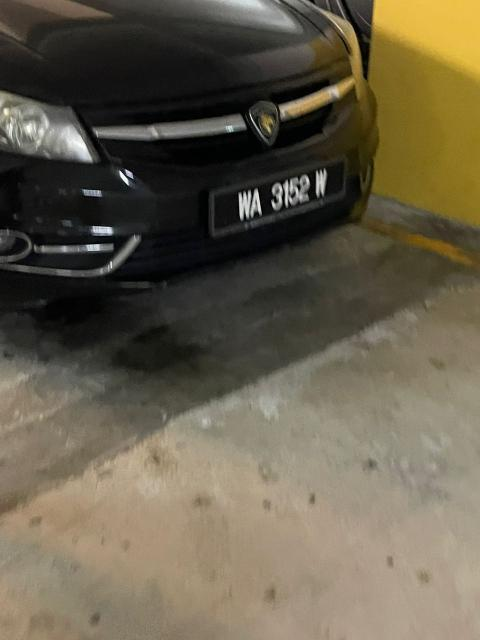License_Plate: (228, 158, 339, 233)
car: (2, 1, 403, 301)
